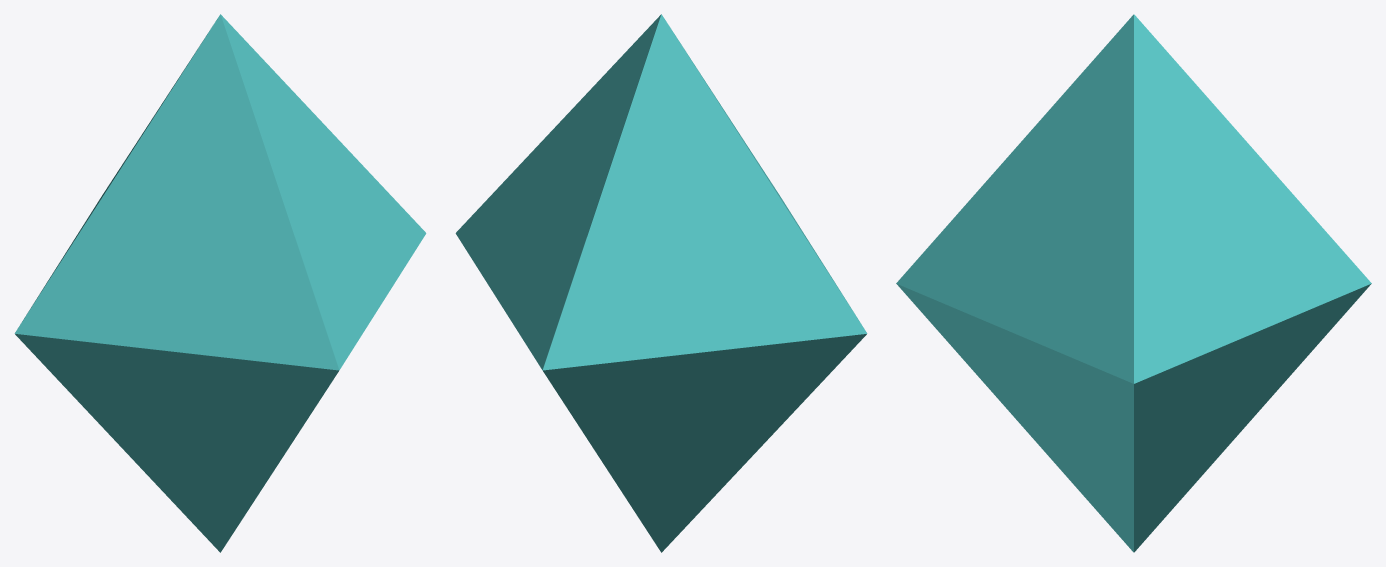
The model's file is gem.glb.
The picture shows the model from 3 angles, left to right: view 1: azimuth 30°, elevation 25°; view 2: azimuth 150°, elevation 25°; view 3: azimuth 270°, elevation 25°; orthographic projection.
Visible parts, largest first — view 1: Gem; view 2: Gem; view 3: Gem.
Part boxes in pixels (<box>): Gem: <box>14,14,426,552</box>; Gem: <box>455,14,867,552</box>; Gem: <box>896,14,1371,552</box>.
Size of the model in its own units: 1.6 by 2 by 1.6.
